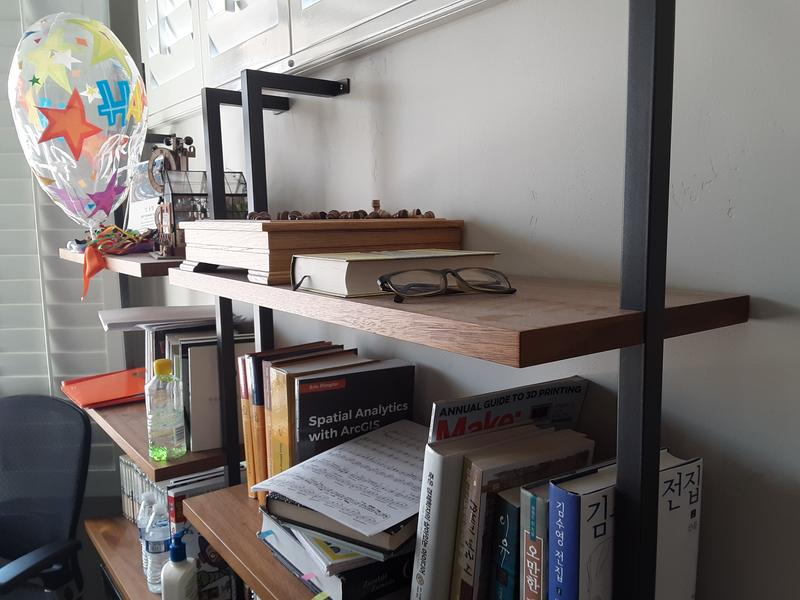glasses: (374, 266, 519, 304)
